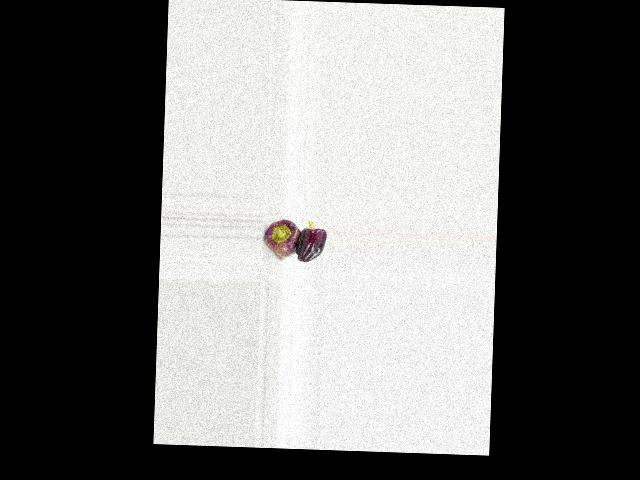bell_pepper: (262, 210, 302, 268)
